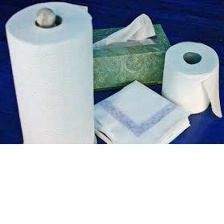book: (79, 19, 176, 93)
tissue: (0, 0, 100, 144), (155, 34, 224, 123), (87, 8, 160, 52)
